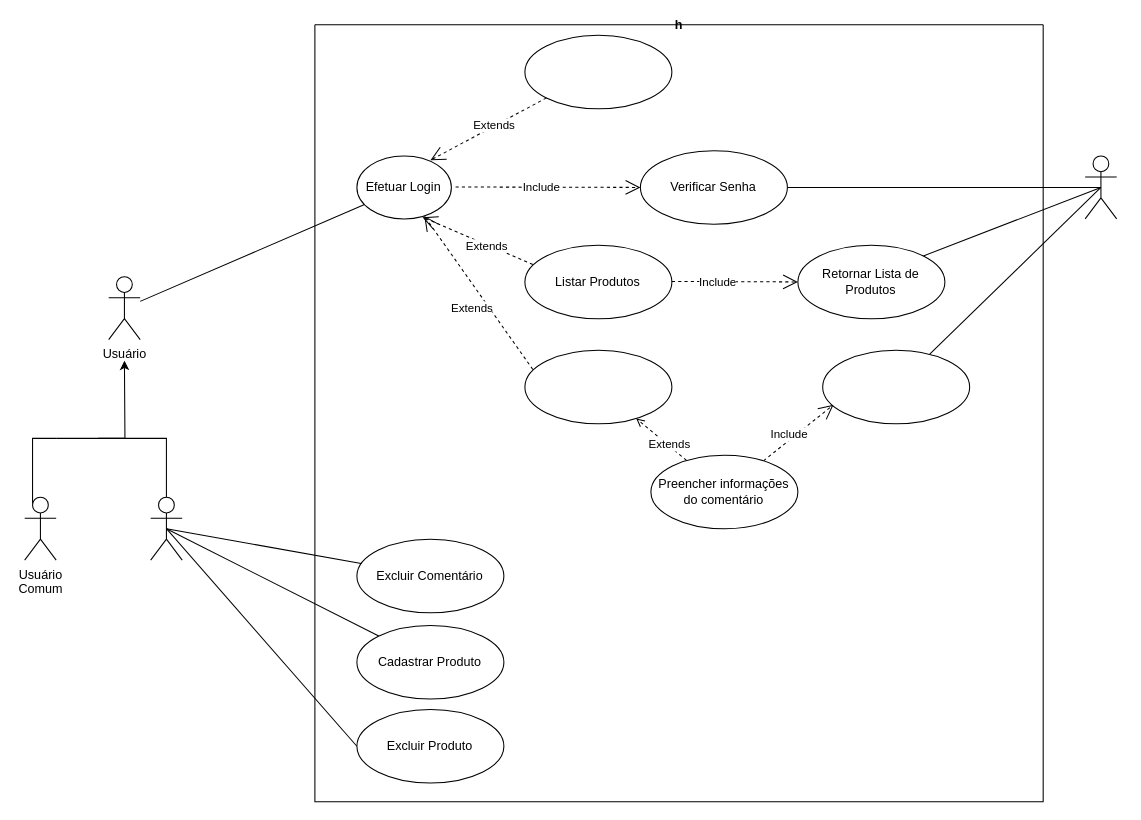
Image size: 1141x820. Some labels were removed from this diagram. The shapes that lost their labels are listed below. From the top down, each one's centre as x and y in pixels, then its label:
the point at 598,71: Cadastrar Usuário
the point at 1100,187: Sistema
the point at 598,386: Comentar um produto
the point at 896,386: Adiciona comentário
the point at 166,528: Usuário Administrador
